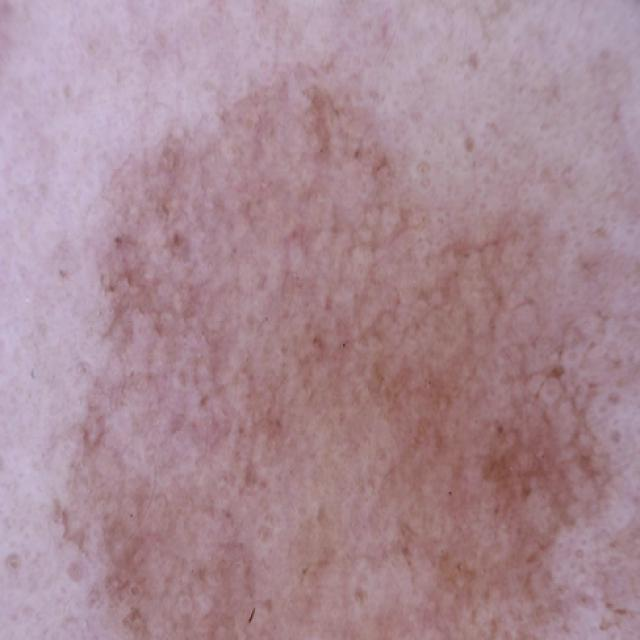Keratosis: (64, 62, 635, 640)
